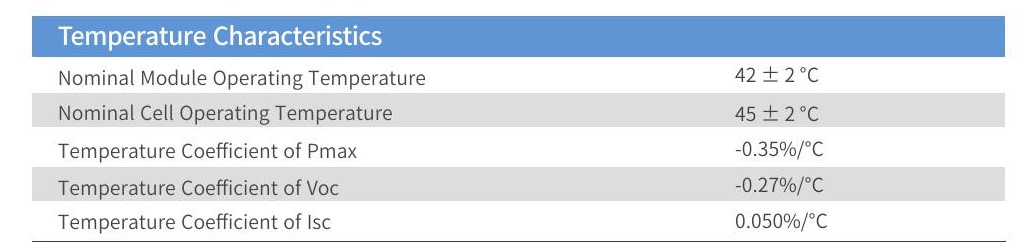table: (10, 46, 1025, 248)
table column: (49, 59, 449, 241), (718, 54, 850, 242)
table row: (30, 129, 1010, 165), (33, 205, 1008, 239), (30, 63, 1008, 91), (33, 171, 1010, 199), (28, 96, 1009, 123)
